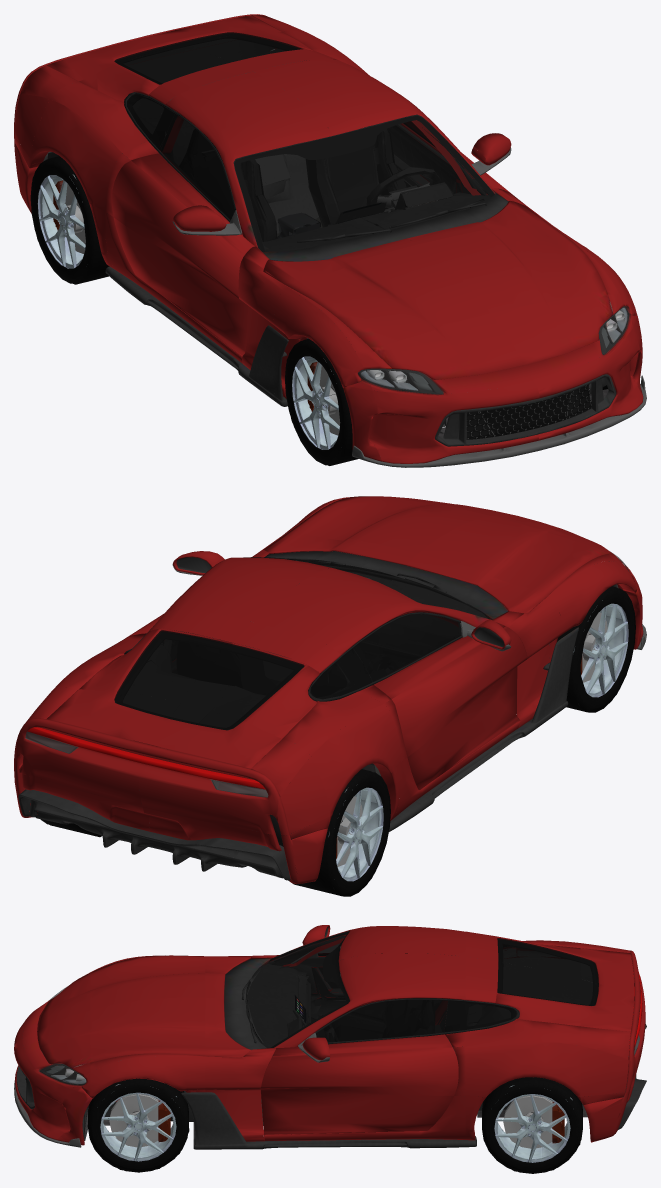
The model's file is gt-coupe.glb.
3 views of the same model, one above another, from view 1: azimuth 30°, elevation 25°; view 2: azimuth 150°, elevation 25°; view 3: azimuth 270°, elevation 25° (orthographic). The views are drawn at different scales.
Visible parts, largest first — view 1: roof, door.R, glass.front, cockpit, nose.R, nose.L, door.L, wheel.rear.R, wheel.front.R, glass.rear, tail.R, tail.L (+2 smaller); view 2: roof, door.R, tail.R, tail.L, cockpit, glass.rear, door.L, wheel.rear.R, wheel.front.R, deck, glass.front, nose.R (+2 smaller); view 3: door.L, roof, cockpit, glass.front, wheel.rear.L, wheel.front.L, nose.L, door.R, glass.rear, tail.L, tail.R, nose.R (+4 smaller).
Part boxes in pixels (<box>): roof: <box>20,15,621,393</box>; door.R: <box>14,94,490,400</box>; glass.front: <box>234,116,633,392</box>; cockpit: <box>124,39,496,251</box>; nose.R: <box>343,313,539,467</box>; nose.L: <box>491,294,646,450</box>; door.L: <box>333,47,636,315</box>; wheel.rear.R: <box>30,156,109,284</box>; wheel.front.R: <box>285,338,360,465</box>; glass.rear: <box>114,32,302,84</box>; tail.R: <box>14,36,171,213</box>; tail.L: <box>144,14,281,48</box>; roof: <box>26,497,620,796</box>; door.R: <box>277,516,637,835</box>; tail.R: <box>139,718,330,884</box>; tail.L: <box>14,689,171,854</box>; cockpit: <box>123,560,488,790</box>; glass.rear: <box>27,630,304,789</box>; door.L: <box>14,496,490,770</box>; wheel.rear.R: <box>289,769,390,896</box>; wheel.front.R: <box>557,584,635,712</box>; deck: <box>119,626,358,722</box>; glass.front: <box>243,551,631,619</box>; nose.R: <box>492,514,646,649</box>; door.L: <box>81,997,632,1149</box>; roof: <box>22,925,630,1095</box>; cockpit: <box>246,935,592,1124</box>; glass.front: <box>39,932,349,1089</box>; wheel.rear.L: <box>482,1077,582,1173</box>; wheel.front.L: <box>83,1068,189,1172</box>; nose.L: <box>14,1010,92,1147</box>; door.R: <box>90,940,563,1024</box>; glass.rear: <box>497,938,642,1050</box>; tail.L: <box>580,984,646,1142</box>; tail.R: <box>580,948,646,1057</box>; nose.R: <box>14,973,90,1089</box>.
Size of the model in its own units: 2.26 by 1.35 by 4.7.
Materials: 19 (7 with a texture image).
